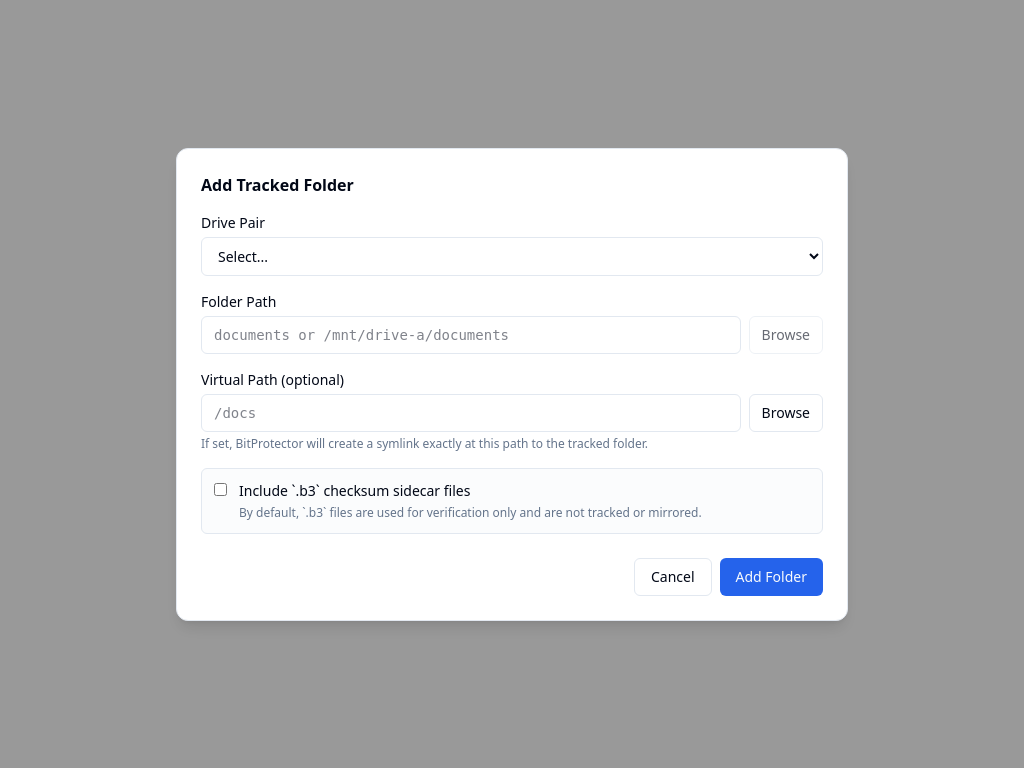
Scenario: FolderFormModal › shows folder path required error when submitted without a path
Select "Main Pair" in the dropdown: coordinates (512, 256) [201,236,823,276]
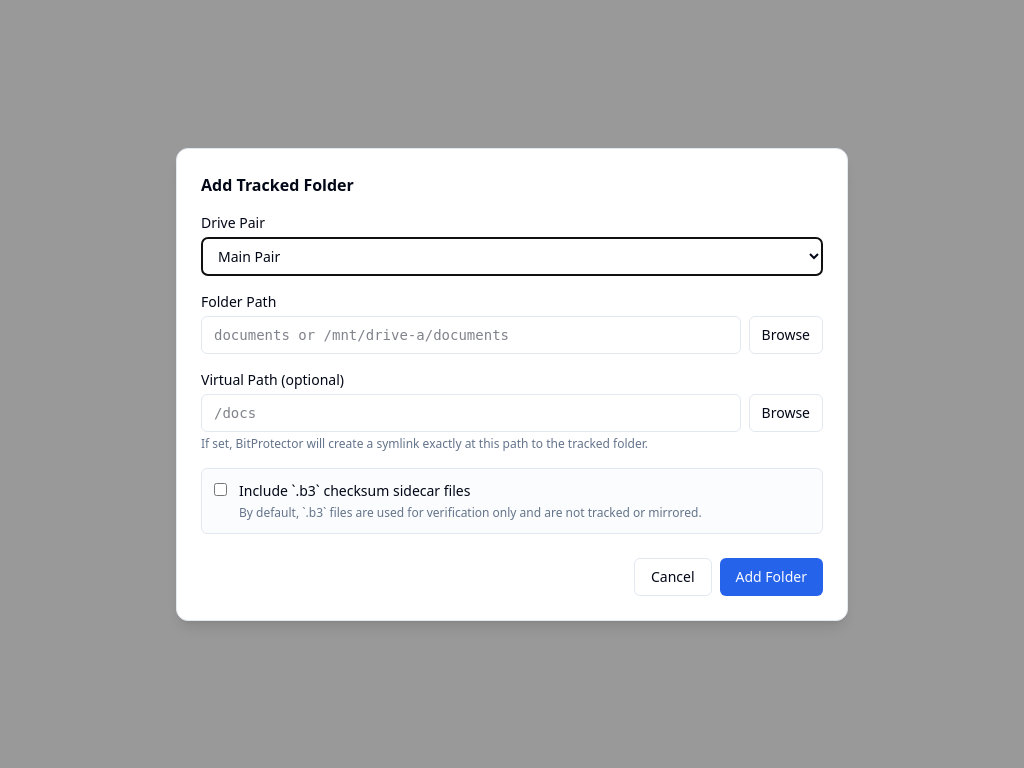
Click the button "Add Folder": coordinates (771, 576) [720,558,823,596]
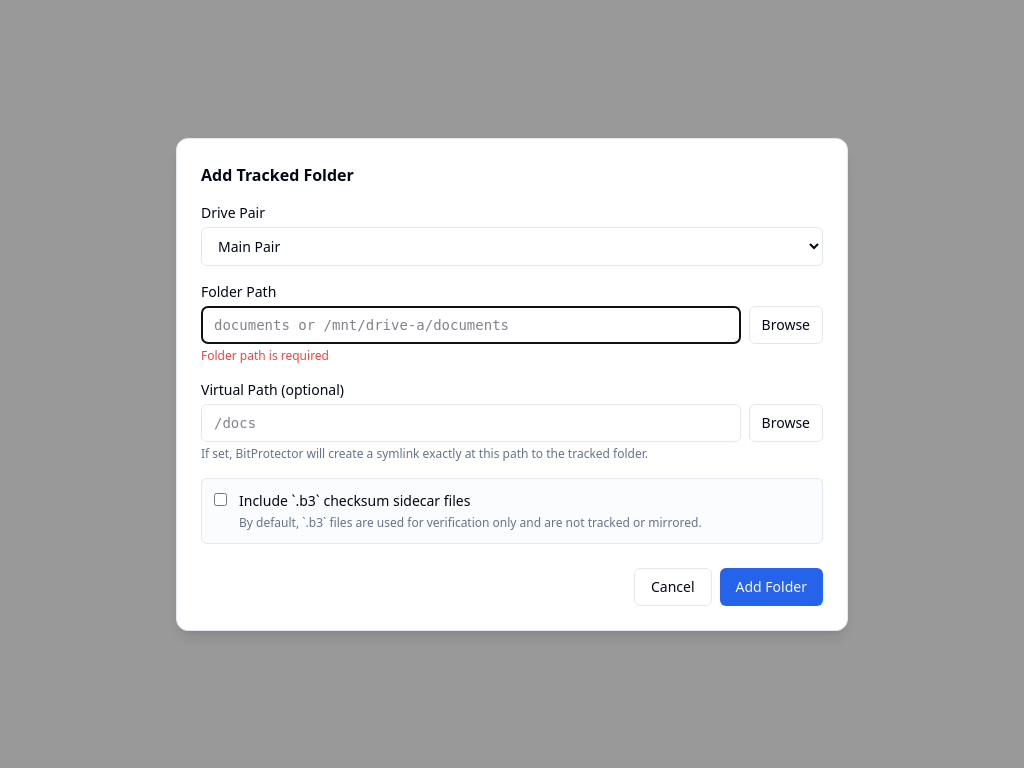
expect the text "Folder path is required" is shown: met, box [201,346,329,364]
